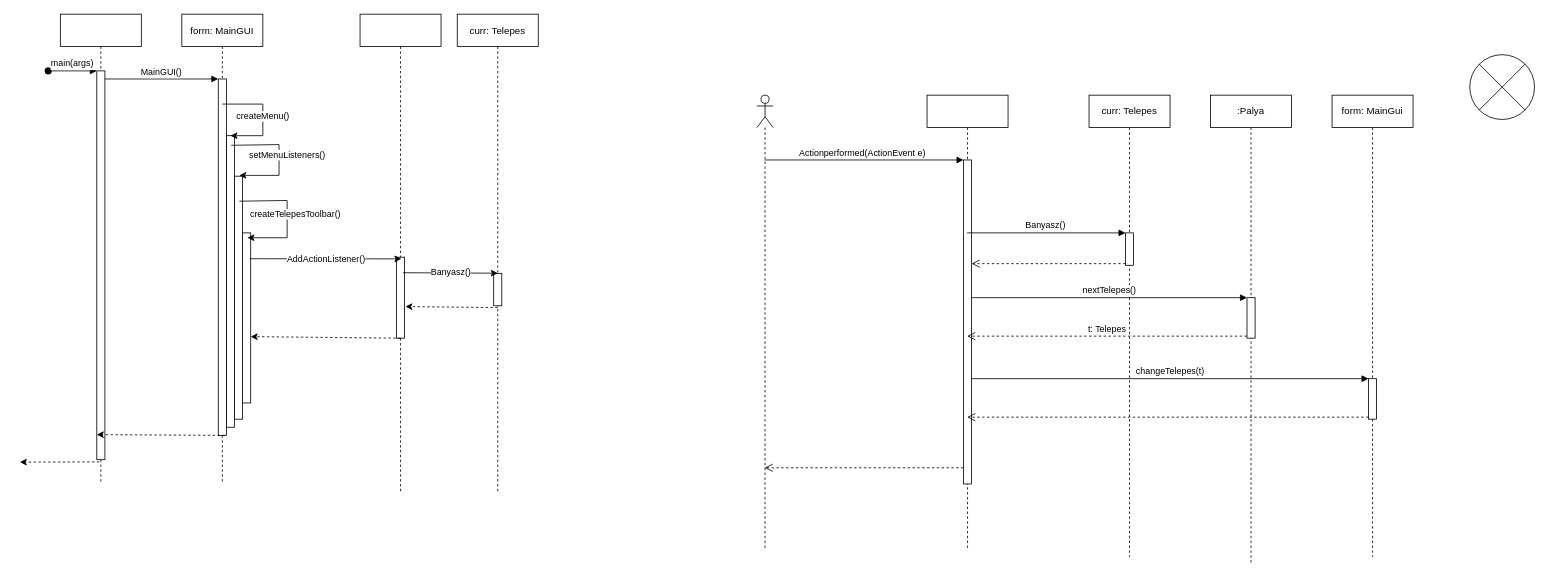
Some shapes in this 1549 by 579 pixel diagram are drawn without their labels. Here are the shapes that lost their labels. From the top down, the box of each, then its label:
(60, 13, 141, 484): Main
(359, 13, 441, 492): bTetlen:Button
(926, 94, 1008, 549): :ActionListener
